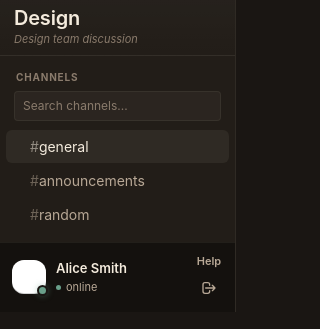
Scenario: ChannelsSidebar channel rows › clears the channel search
Type "random" into the search field with test id "channel-search-input". click: (118, 106)
box: [14, 91, 221, 121]
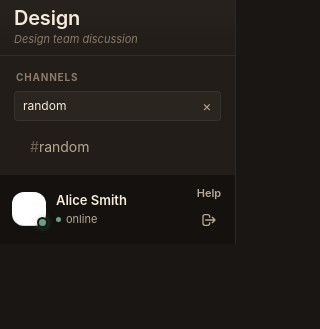
expect the link "#random" is shown: met, box [30, 138, 90, 155]
expect the link "general" is gone: met
Click the button with test id "channel-search-clear". click: (207, 106)
box: [197, 96, 217, 116]
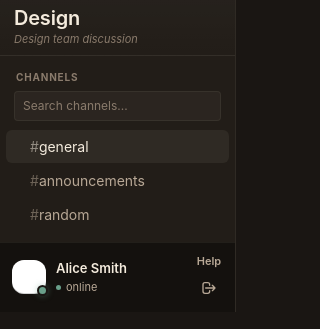
expect the search field with test id "channel-search-input" is empty: met, box [14, 91, 221, 121]
expect the link "#general" is shown: met, box [6, 130, 229, 163]
expect the link "#announcements" is shown: met, box [30, 172, 145, 189]
